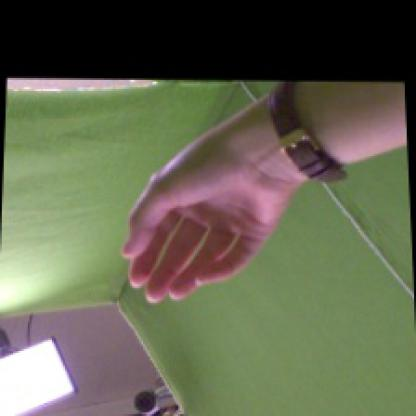Hand: (121, 132, 292, 303)
